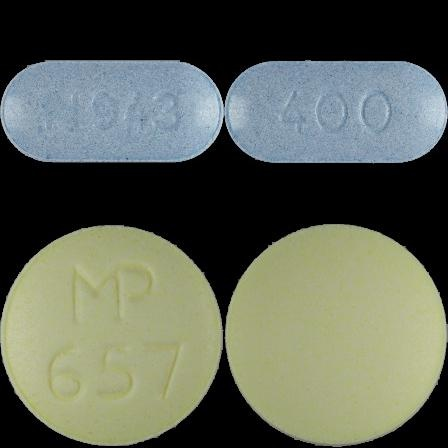33261-491: (0, 0, 224, 224)
